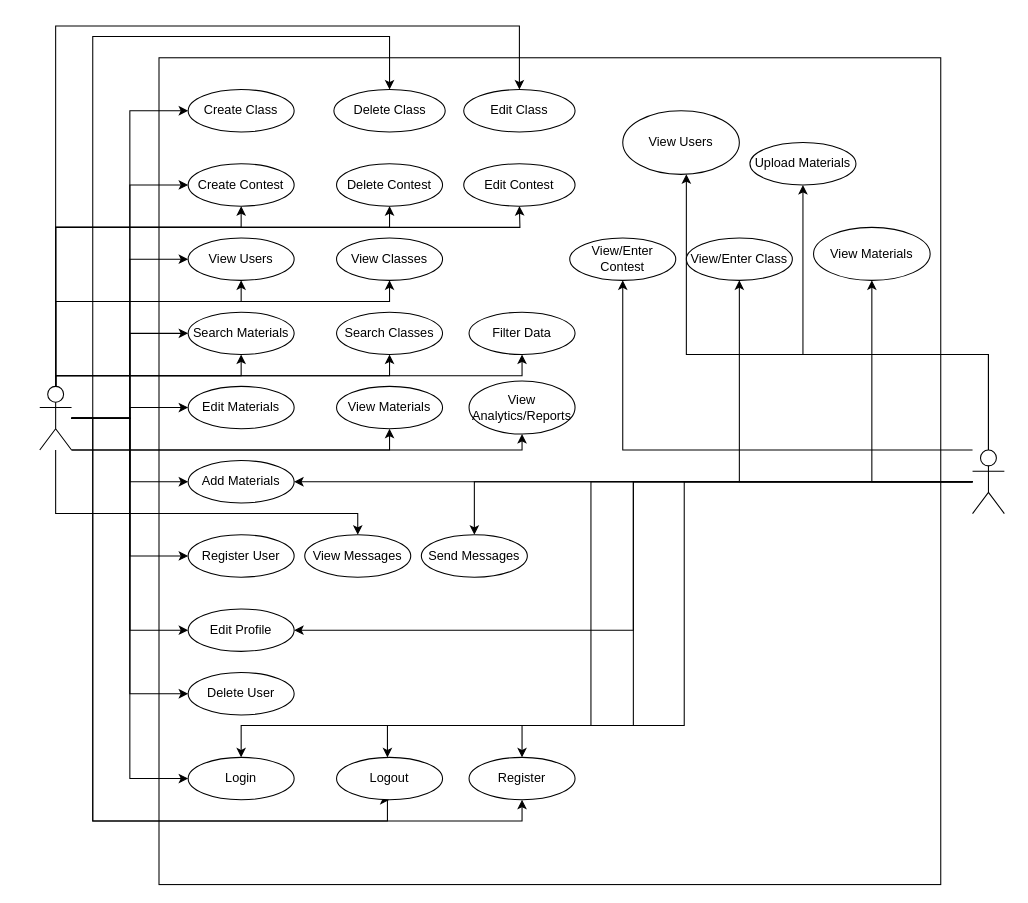
This 1028x903 diagram has some shape labels left out. Each missing label, with the centre of its shape:
Administrator: the point at 55,417
Student: the point at 987,481
